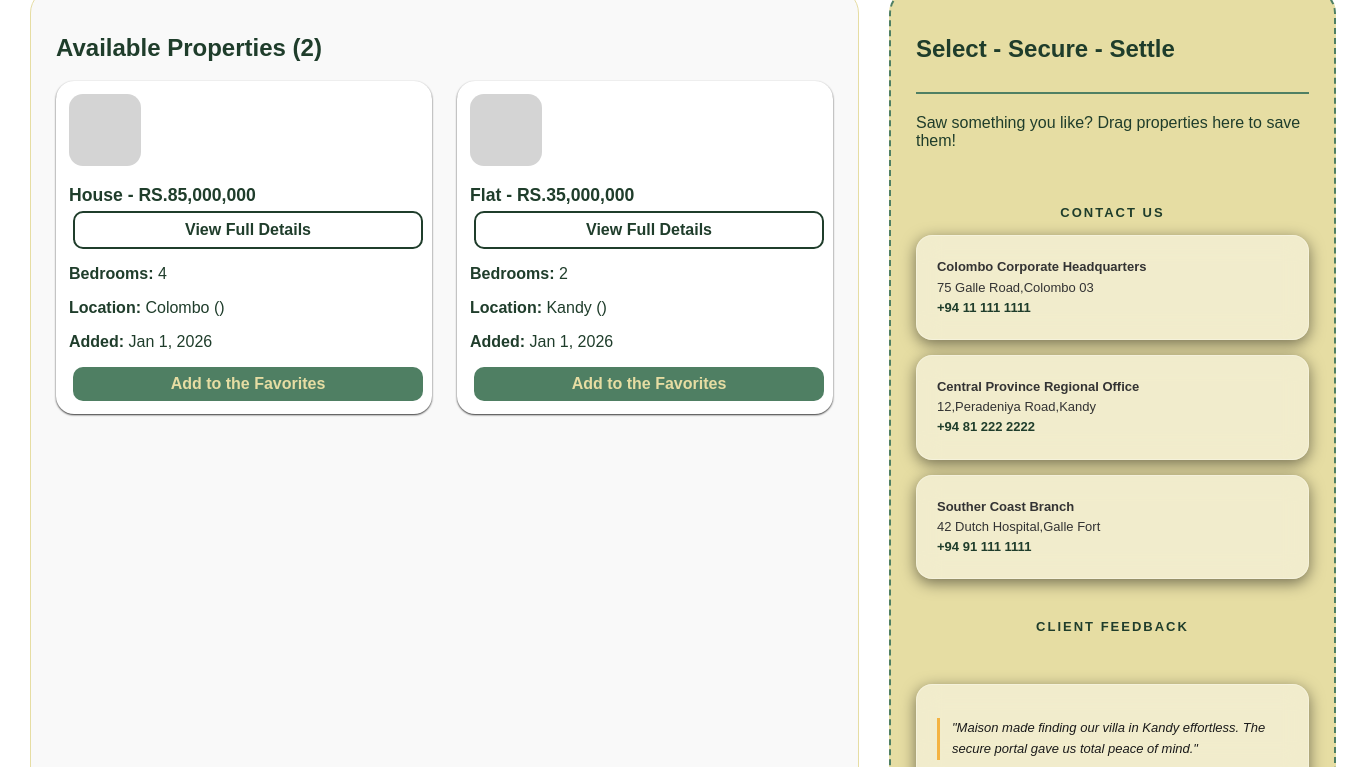
Maison Function Testing › Clears all favorites once 'Clear All' button is clicked
(page scrolled)
Note: Add an item
What coordinates should you click on to do the following:
click the button "Add to the Favorites" below "85,000,000"
I would click on:
 (248, 384)
Its box is [73, 367, 423, 401].
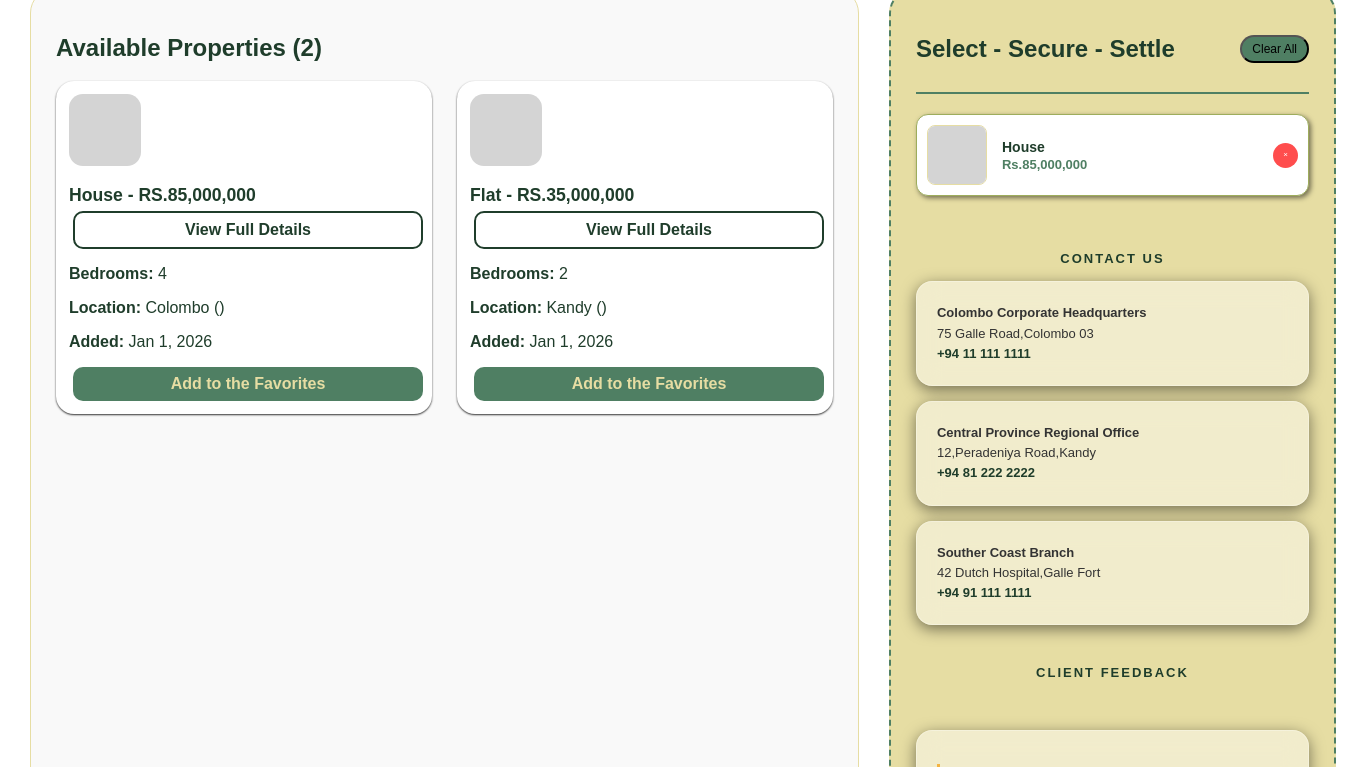
Note: Click Clear All
What coordinates should you click on to do the following:
click the button "Clear All"
I would click on:
 (1275, 48)
Its box is [1240, 34, 1309, 62].
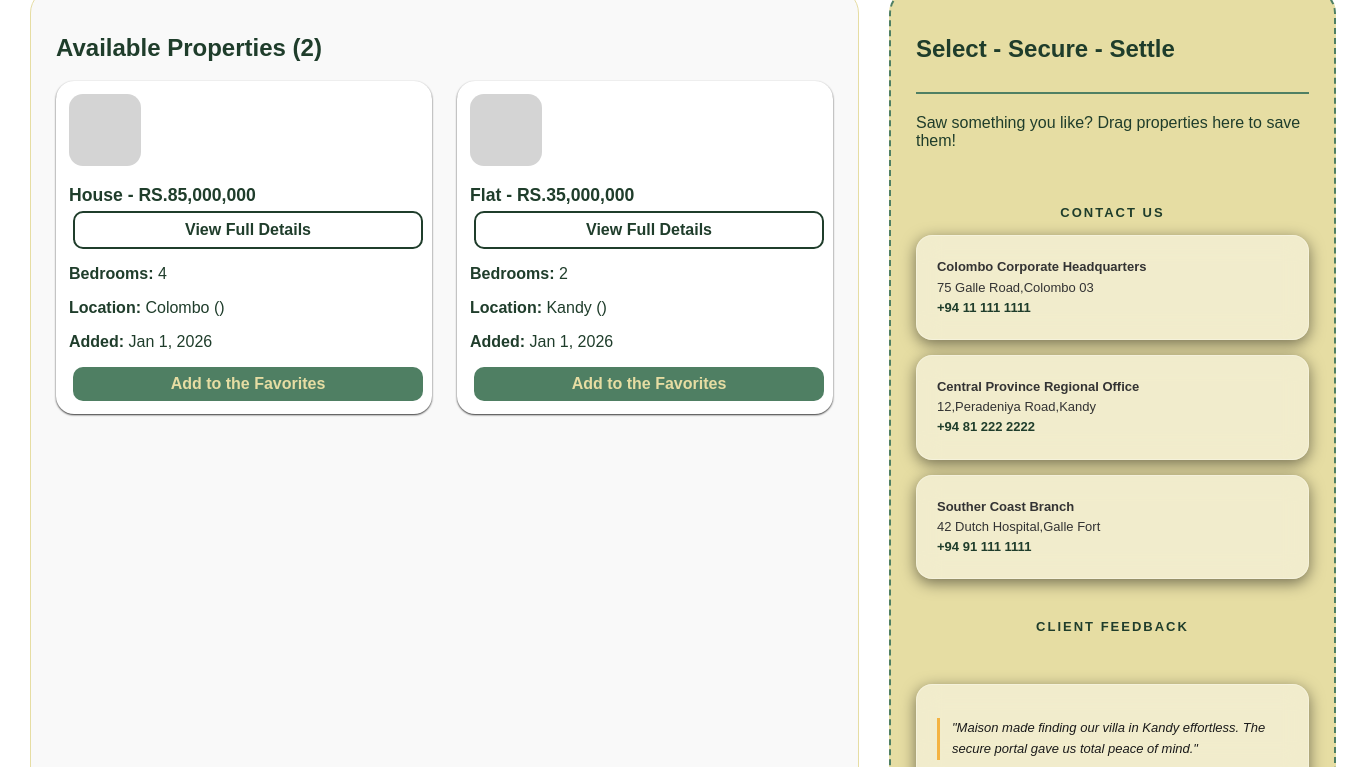
Expected: the text "Saw something you like? Drag properties here to save them!" is shown, [916, 114, 1309, 150]
